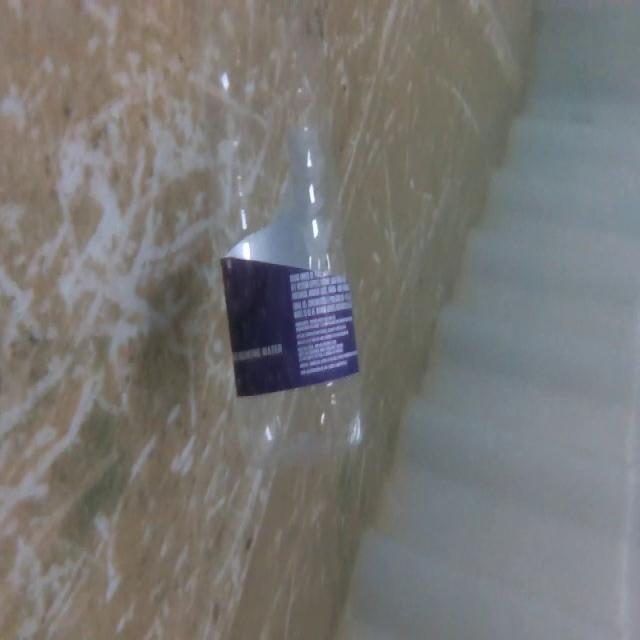plastic bottle: (190, 1, 373, 465)
